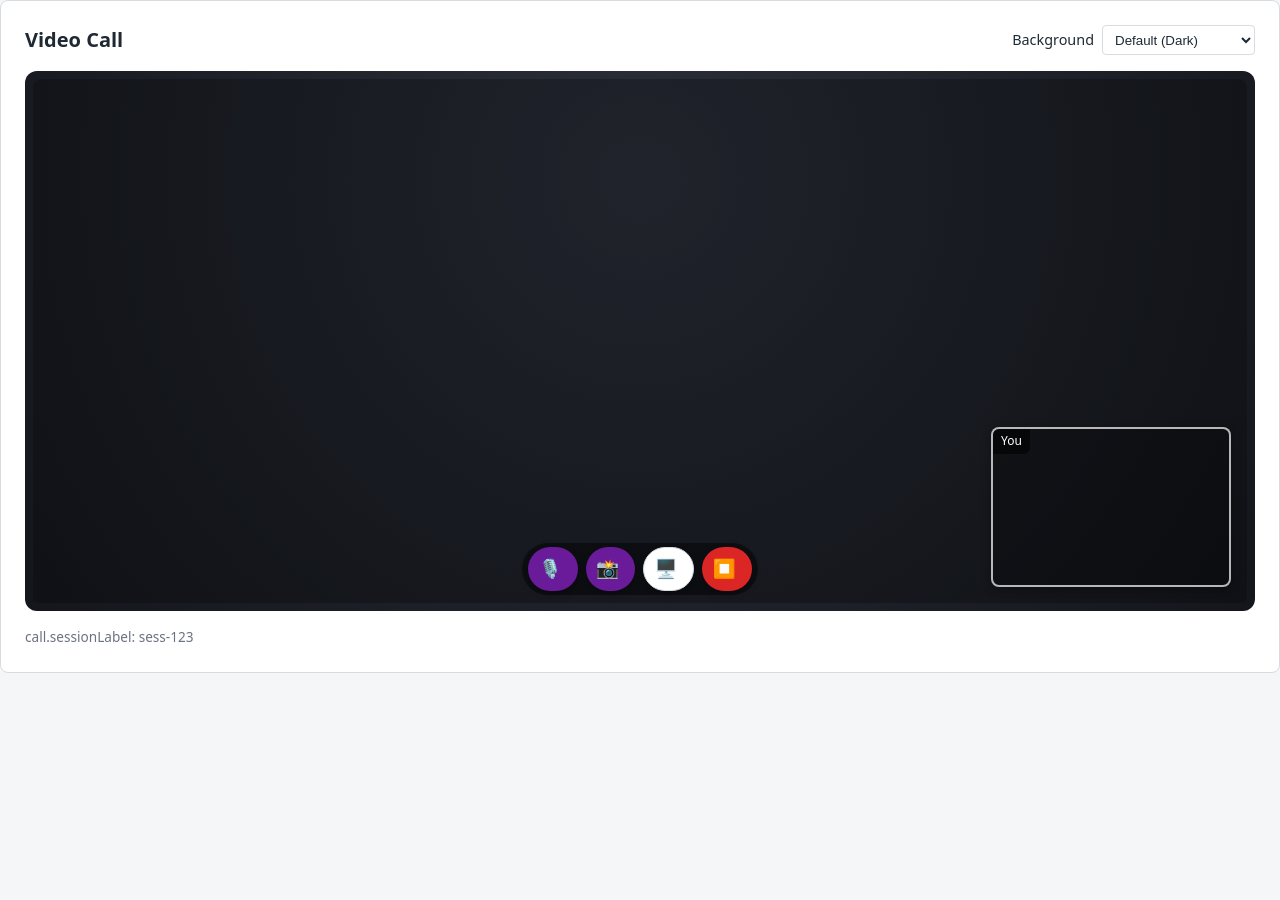
Test case: CallPage 管理者の画面共有フロー › 共有中にリモート screen ストリームを受信しても管理者のメイン領域は自分の共有プレビューのまま
Click the button "Share document": (669, 569) x1=643 y1=547 x2=694 y2=591
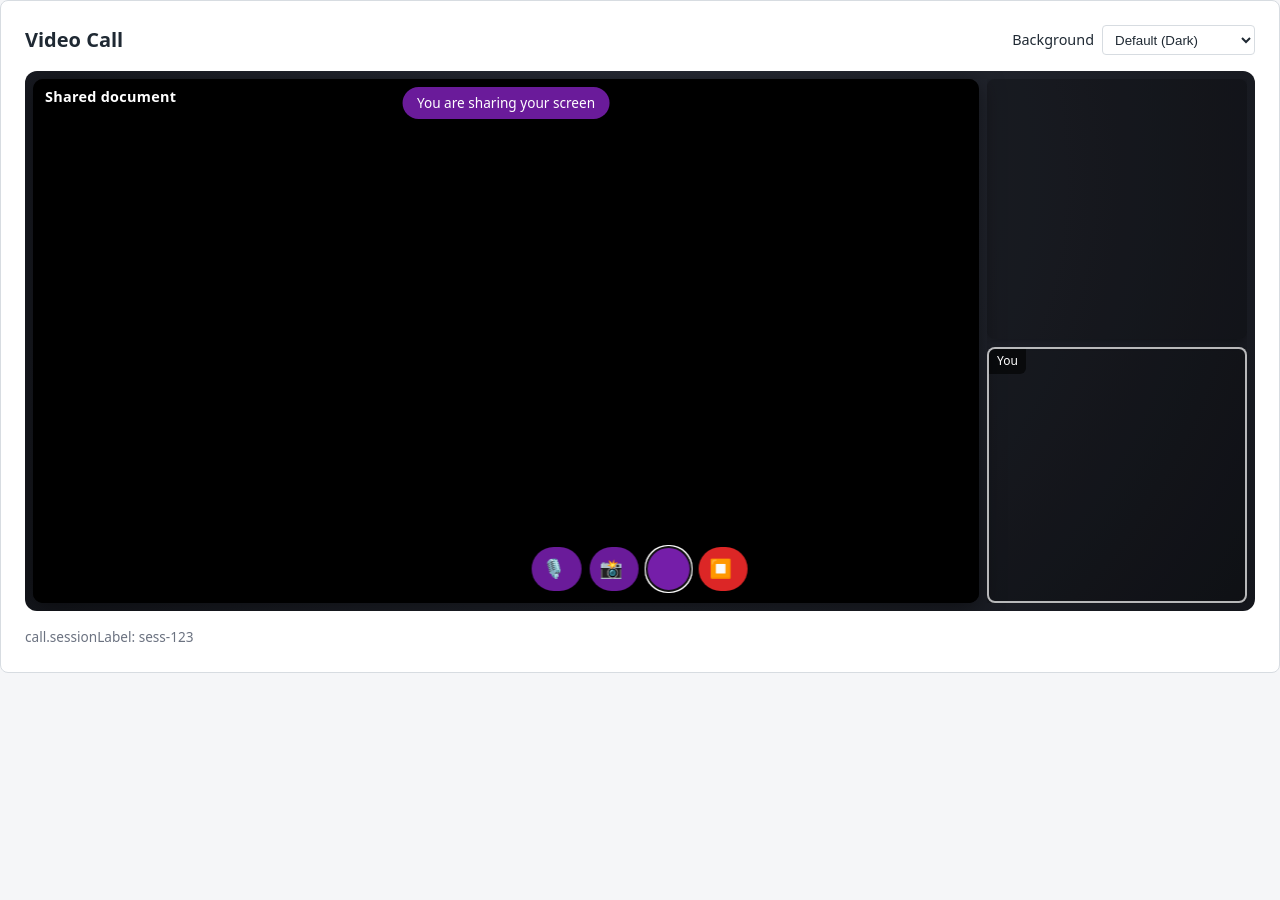
Expected: the element with class "call-admin-subview--local" is shown, x1=987 y1=347 x2=1247 y2=603
Expected: the element with class "call-admin-shared" is shown, x1=33 y1=114 x2=979 y2=603
Expected: the element with class "call-admin-main" is shown, x1=33 y1=79 x2=979 y2=603
